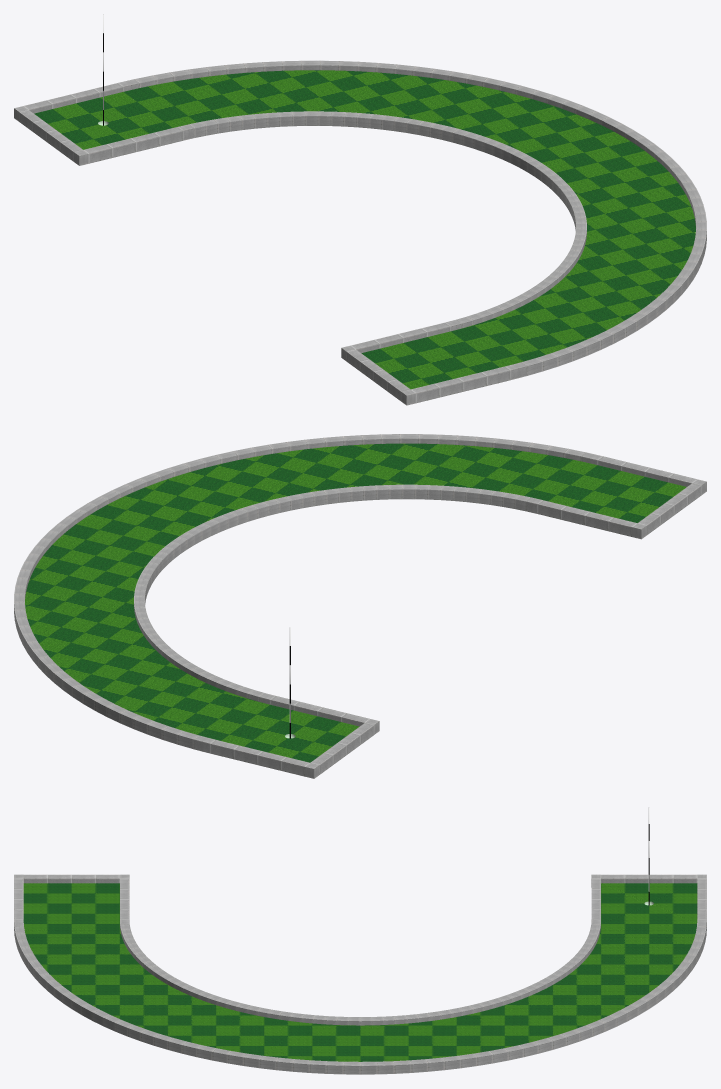
3 views of the same model, one above another, from view 1: azimuth 30°, elevation 25°; view 2: azimuth 150°, elevation 25°; view 3: azimuth 270°, elevation 25° (orthographic). The views are drawn at different scales.
Parts seen in each view (by area): view 1: grassland, bend, barrier1, barrier2, square; view 2: grassland, bend, barrier1, barrier2, square; view 3: grassland, bend, barrier2, barrier1.
Boxes of the visible parts, <box> form: grassland: <box>34,70,695,389</box>; bend: <box>118,60,706,379</box>; barrier1: <box>24,83,510,403</box>; barrier2: <box>19,110,410,401</box>; square: <box>14,106,416,405</box>; grassland: <box>25,443,686,762</box>; bend: <box>14,434,602,753</box>; barrier1: <box>210,456,696,776</box>; barrier2: <box>310,483,701,774</box>; square: <box>304,479,706,778</box>; grassland: <box>23,883,697,1061</box>; bend: <box>14,919,706,1074</box>; barrier2: <box>23,874,697,883</box>; barrier1: <box>14,878,706,919</box>.
Size of the model in its own units: 94 by 23 by 144.
4 materials, 3 textured.
